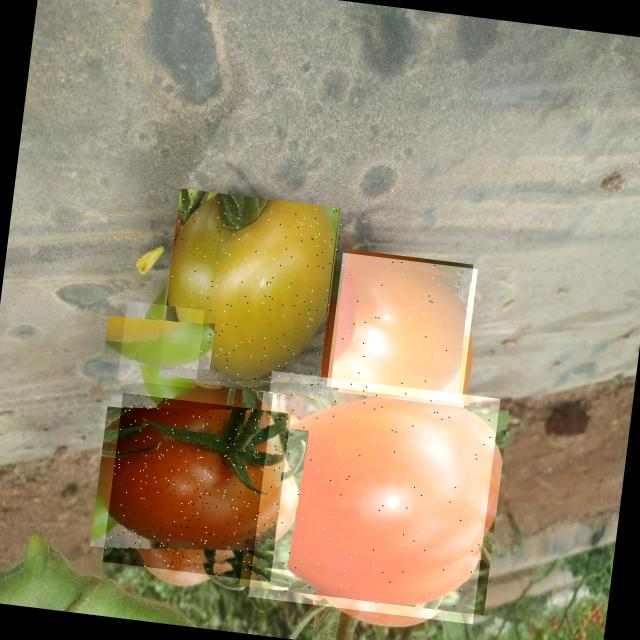Ripe Tomato: (248, 371, 500, 624), (102, 392, 290, 582), (326, 252, 477, 403)
Unripe Tomato: (157, 188, 345, 399), (118, 301, 205, 388)
